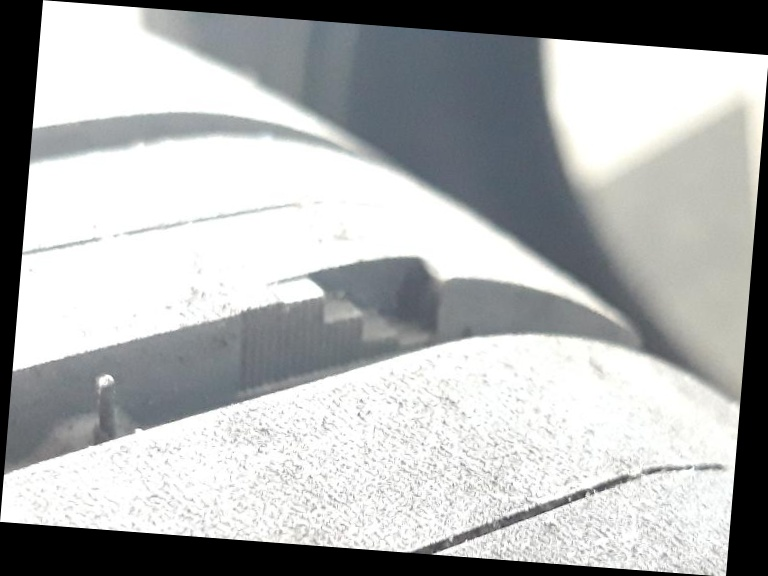temoin:75: (254, 237, 460, 393)
